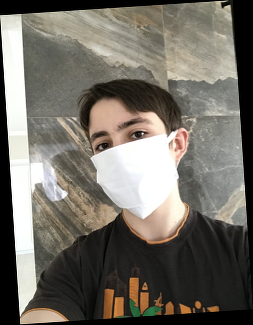with_mask: (90, 113, 179, 221)
